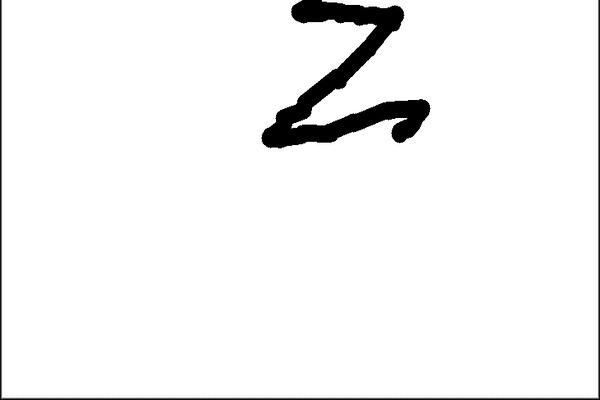Z: (260, 0, 435, 153)
